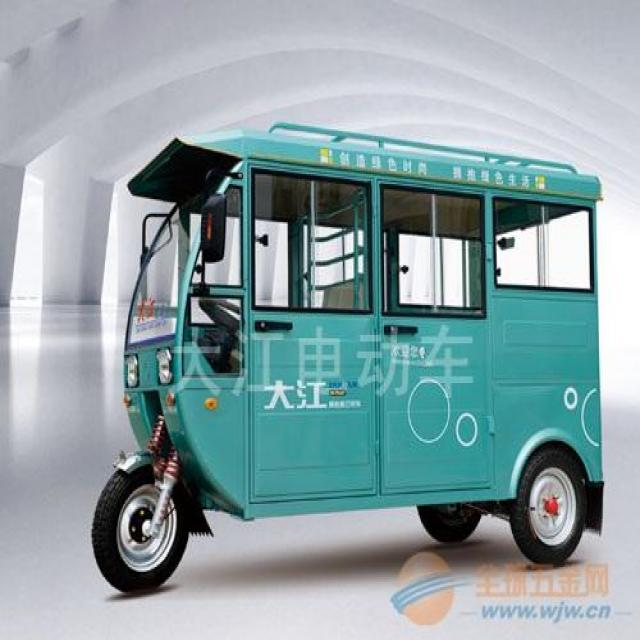tricycle: (91, 120, 608, 590)
